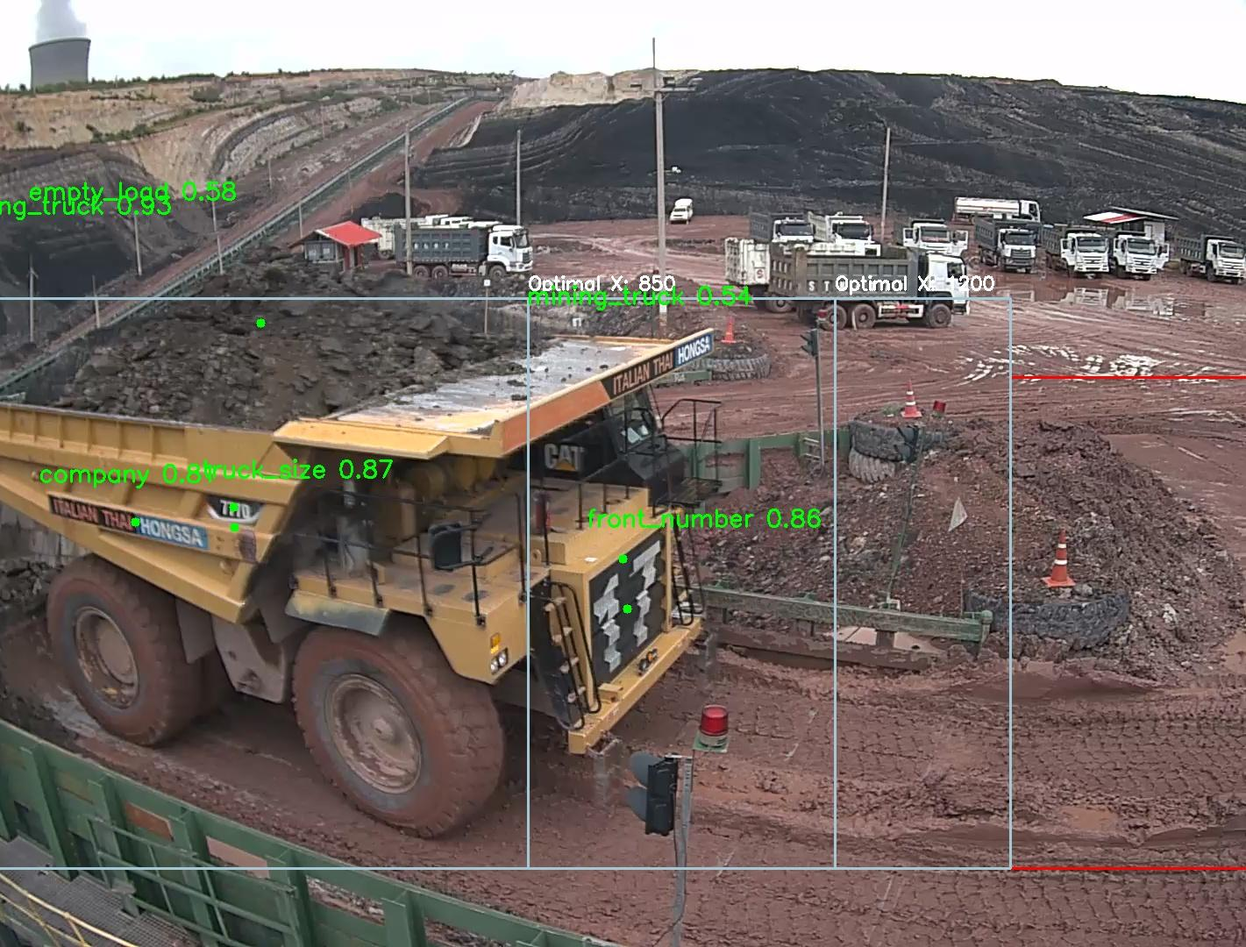company: (35, 486, 212, 552)
full_load: (134, 241, 443, 445)
mining_truck: (5, 217, 737, 844)
truck_size: (205, 486, 264, 527)
